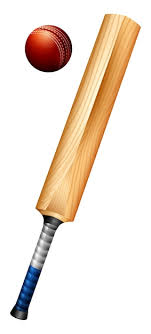baseball bat: (10, 12, 141, 321)
